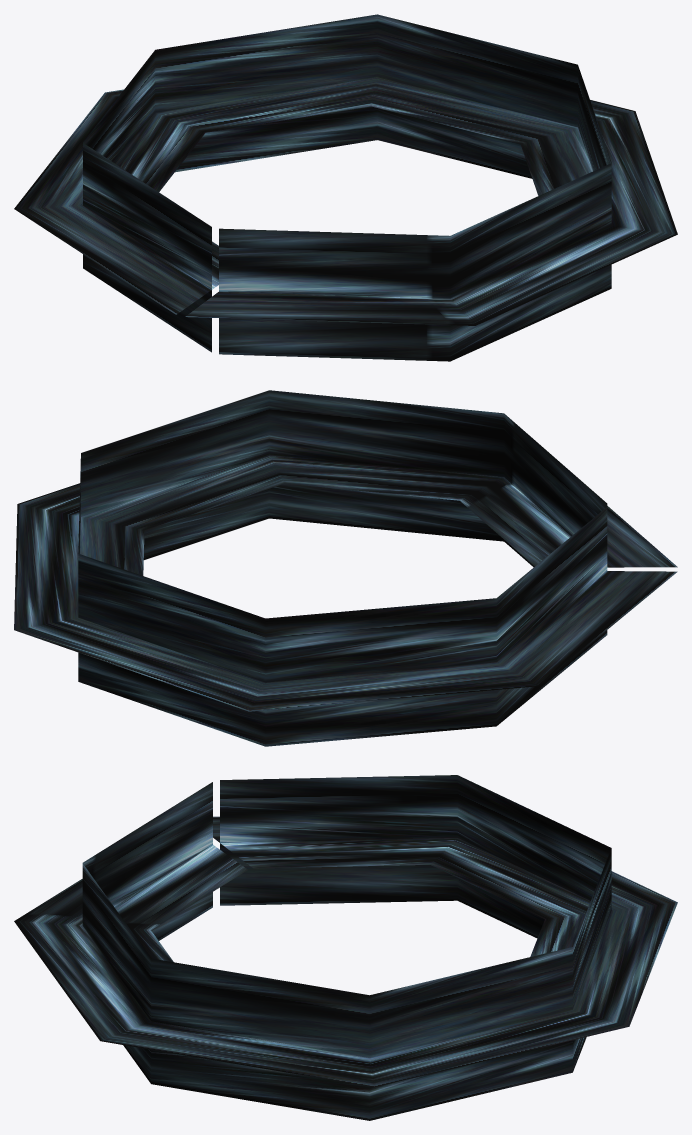
Rendered from windline_001.FBX.
3 views of the same model, one above another, from view 1: azimuth 30°, elevation 25°; view 2: azimuth 150°, elevation 25°; view 3: azimuth 270°, elevation 25° (orthographic). The views are drawn at different scales.
Parts seen in each view (by area): view 1: Plane004; view 2: Plane004; view 3: Plane004.
Part boxes in pixels (bbox=[...]): Plane004: bbox=[14, 14, 677, 361]; Plane004: bbox=[14, 390, 677, 746]; Plane004: bbox=[14, 775, 677, 1120].
Bounding box in the file's own units: 118 × 25.08 × 120.
